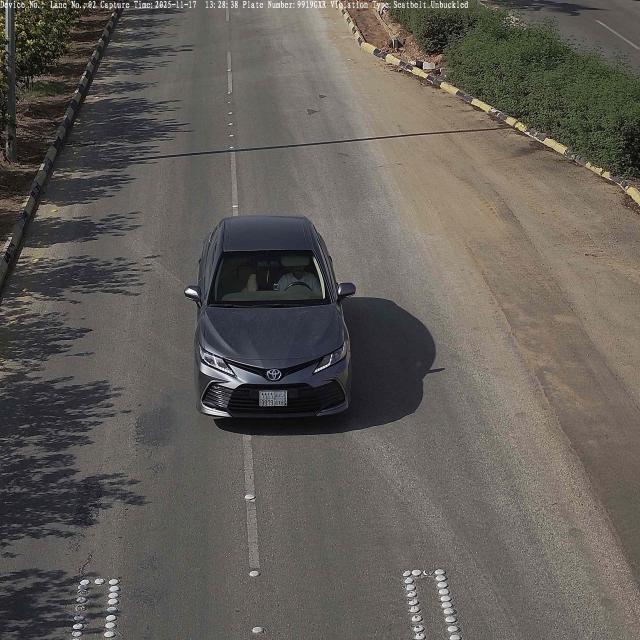person_without_seatbelt: (277, 259, 318, 293)
